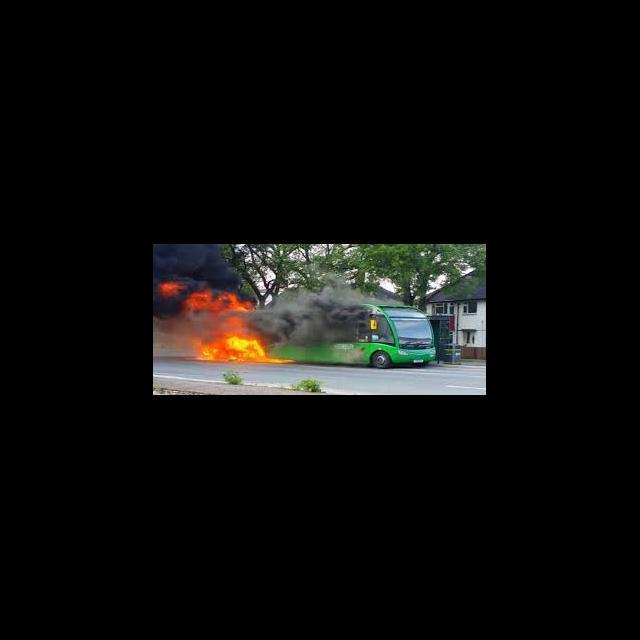Fire: (198, 335, 297, 365), (191, 290, 251, 314), (160, 280, 178, 296)
Smoke: (258, 290, 378, 337), (154, 245, 234, 281), (156, 298, 190, 338), (192, 316, 258, 334)
